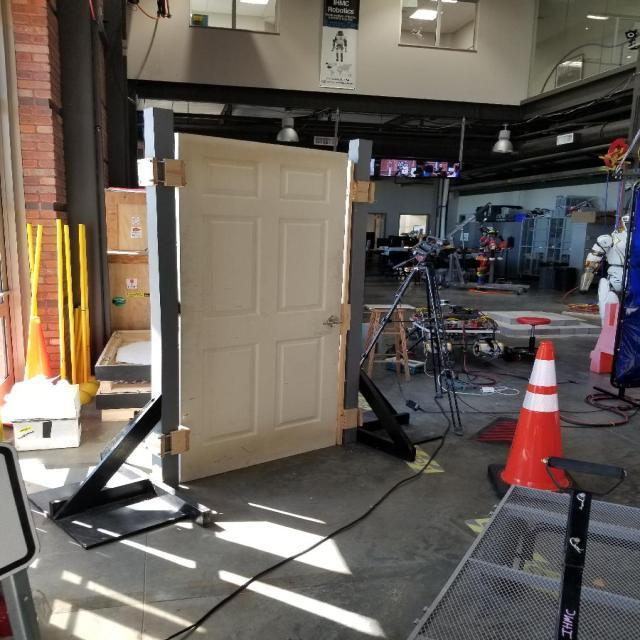door: (170, 130, 356, 488), (318, 312, 345, 330)
